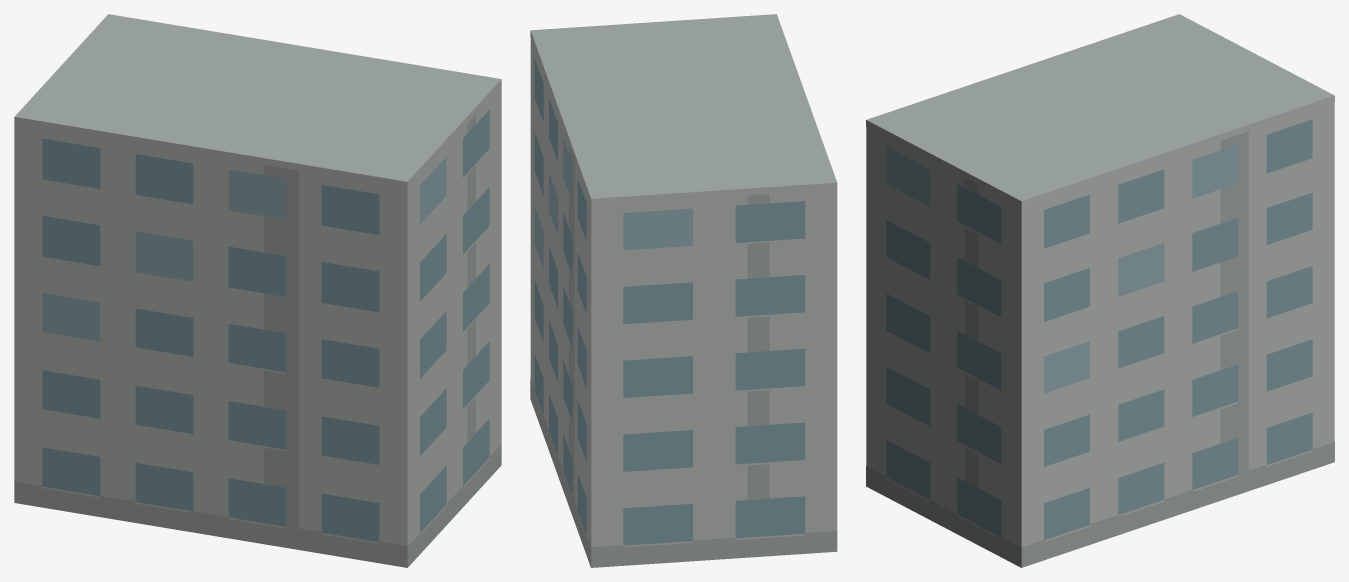
The model's file is survey-upis-32749254.glb.
The picture shows the model from 3 angles, left to right: view 1: azimuth 30°, elevation 25°; view 2: azimuth 150°, elevation 25°; view 3: azimuth 270°, elevation 25°; orthographic projection. The views are drawn at different scales.
Parts seen in each view (by area): view 1: survey-upis-32749254.tmp; view 2: survey-upis-32749254.tmp; view 3: survey-upis-32749254.tmp.
Part boxes in pixels (x1,y1,x2,y2): survey-upis-32749254.tmp: (14, 14, 501, 567); survey-upis-32749254.tmp: (530, 14, 837, 567); survey-upis-32749254.tmp: (866, 14, 1334, 567).
Bounding box in the file's own units: 14.52 × 13.25 × 15.36.
